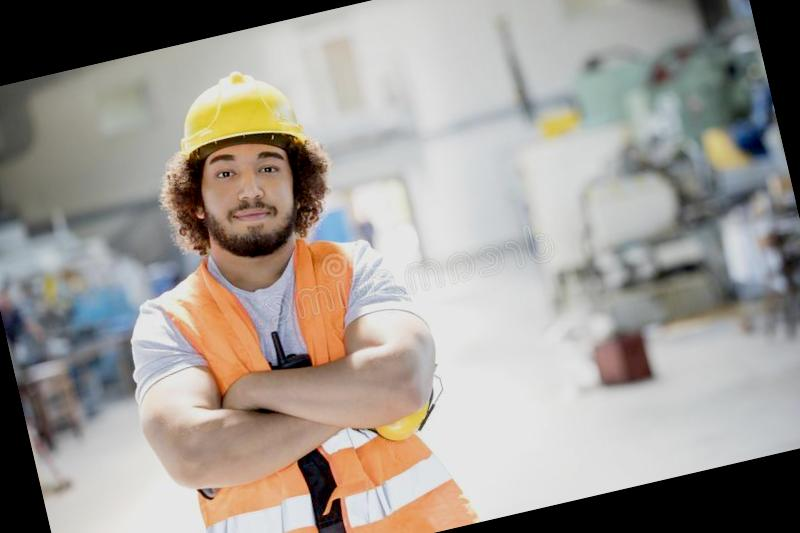helmet: (161, 55, 326, 179)
person: (63, 37, 481, 533)
